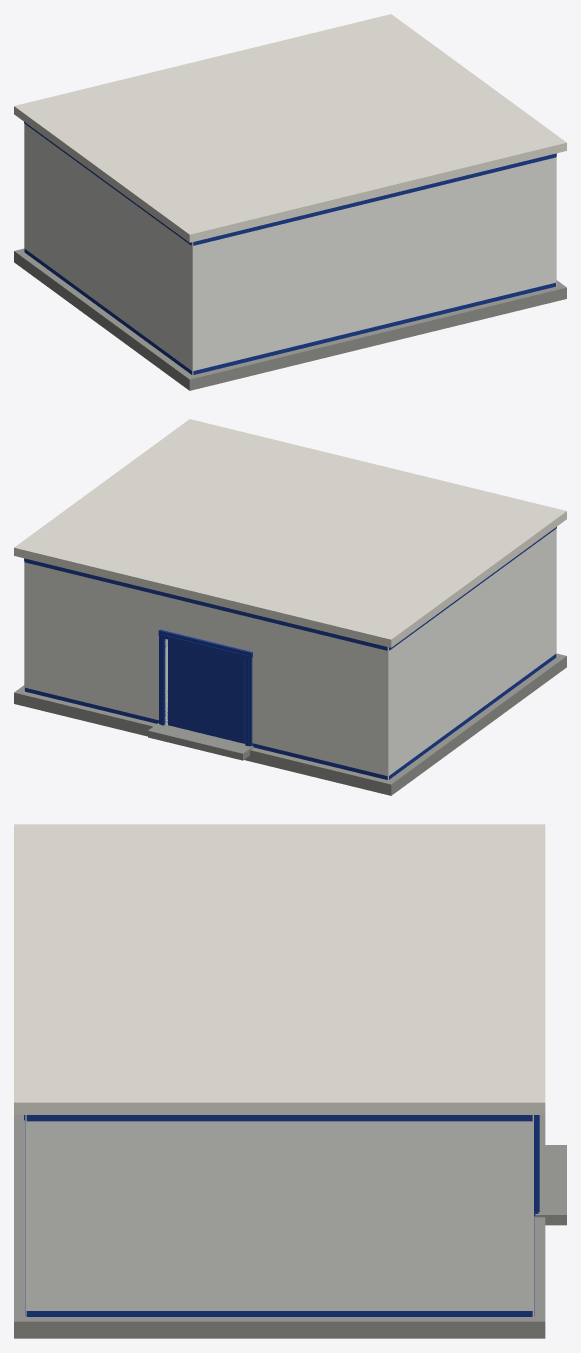
File: SM_Interior_academy_chancellor_office_Shell.fbx
The picture shows the model from 3 angles, top to bottom: view 1: azimuth 30°, elevation 25°; view 2: azimuth 150°, elevation 25°; view 3: azimuth 270°, elevation 25°; orthographic projection. The views are drawn at different scales.
Parts seen in each view (by area): view 1: SM_Interior_academy_chancellor_office_Shell; view 2: SM_Interior_academy_chancellor_office_Shell; view 3: SM_Interior_academy_chancellor_office_Shell.
Part boxes in pixels (x1,y1,x2,y2): SM_Interior_academy_chancellor_office_Shell: (14, 14, 566, 390); SM_Interior_academy_chancellor_office_Shell: (14, 419, 566, 795); SM_Interior_academy_chancellor_office_Shell: (14, 824, 566, 1338).
Size of the model in its own units: 10.36 by 4.1 by 8.7.
